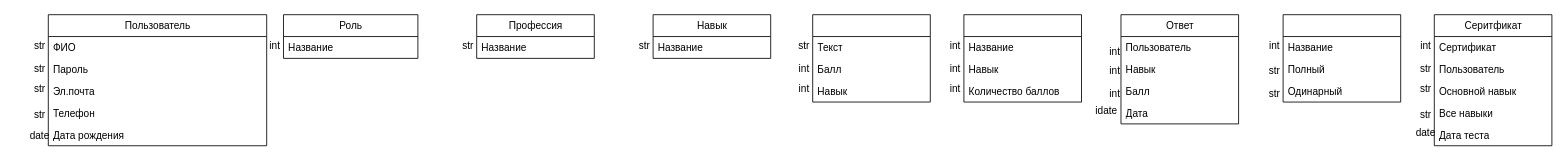
Image size: 1567x164. Some labels were removed from this diagram. The box of each missing label's shape, as (x1, y1, x2, y2) in pixels:
вопрос: (812, 14, 930, 102)
Модельная профессия: (963, 14, 1082, 102)
Пустой сертификат: (1282, 14, 1401, 102)
